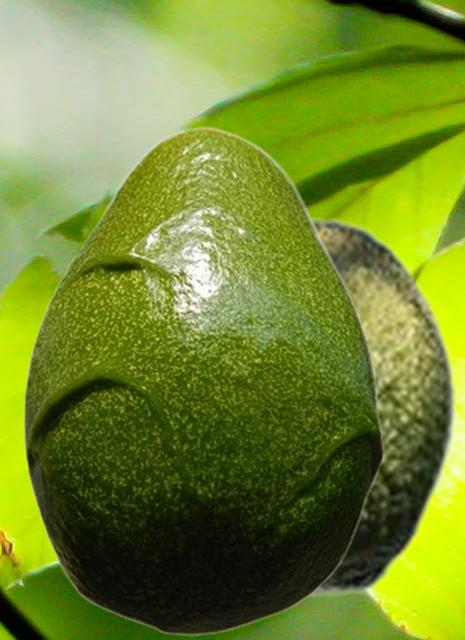avocado: (22, 125, 384, 635), (308, 217, 456, 599)
